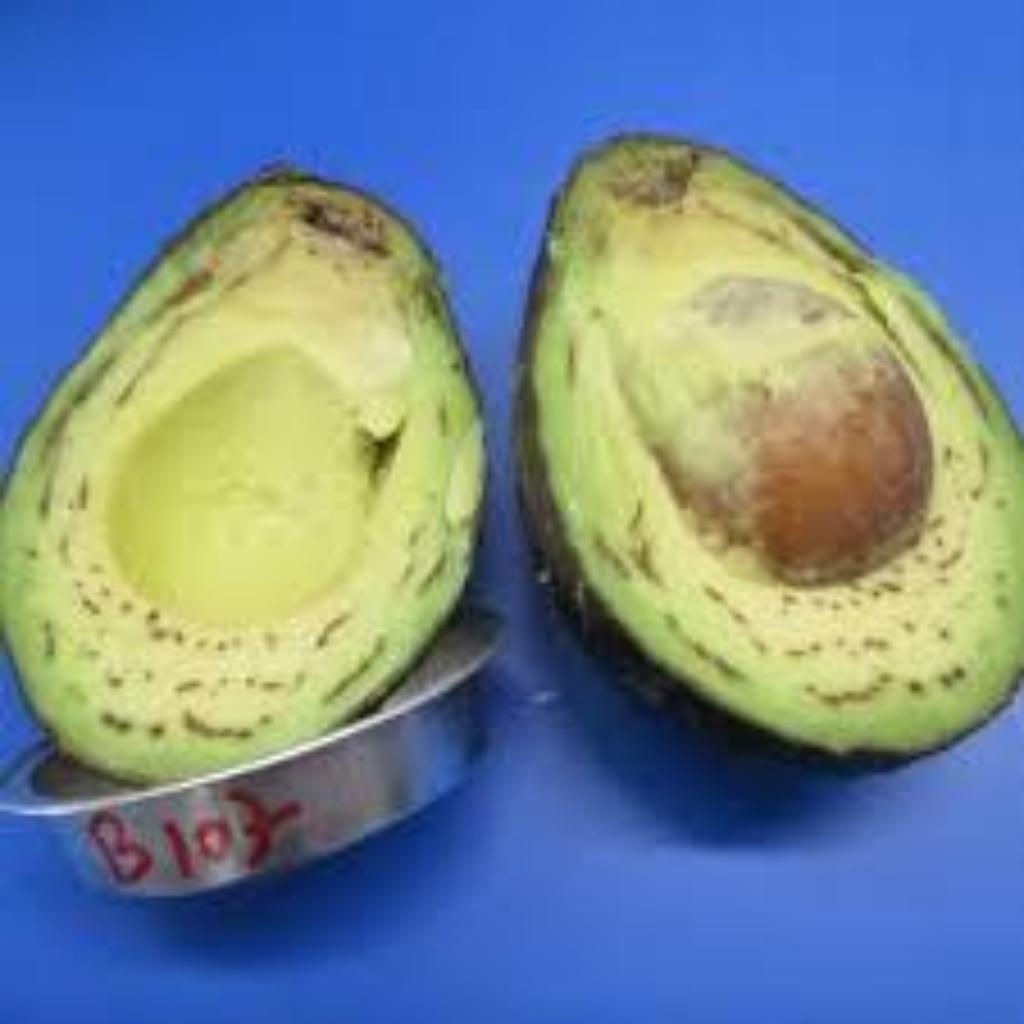antracnosis_fruto: (164, 159, 946, 587)
